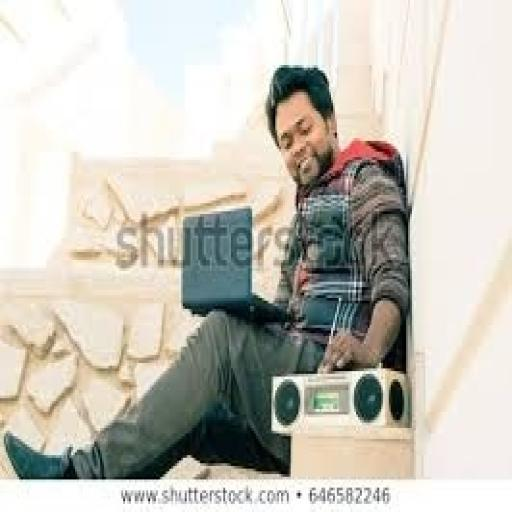using_laptop: (179, 203, 289, 325)
